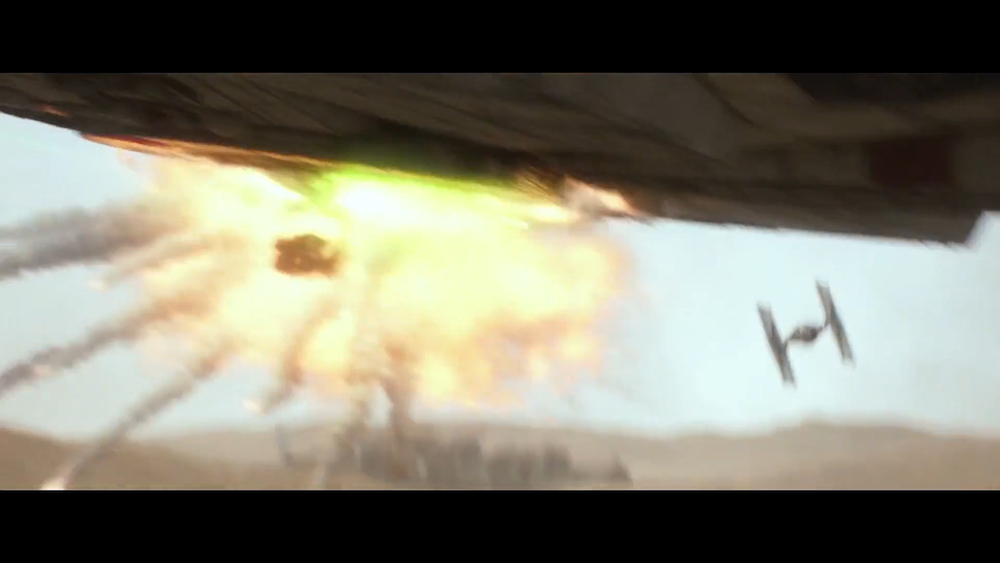Tie Fighter: (756, 281, 856, 390)
